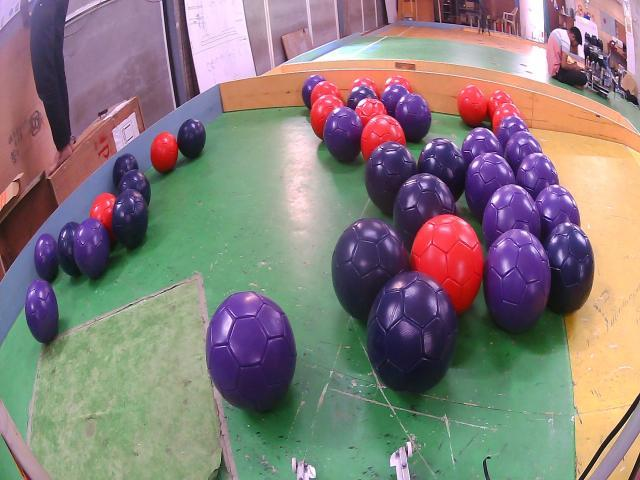jambhalya: (205, 292, 296, 412), (482, 228, 551, 333), (482, 185, 541, 248), (465, 152, 515, 222), (535, 185, 580, 241), (25, 278, 59, 343), (324, 107, 364, 162), (74, 218, 110, 278), (516, 153, 559, 200), (395, 93, 431, 142), (461, 127, 504, 167), (504, 132, 542, 177), (34, 233, 59, 282), (496, 115, 528, 150), (380, 83, 409, 117), (301, 75, 325, 108)
kaalyya: (368, 270, 458, 392), (331, 218, 410, 322), (392, 173, 456, 250), (544, 223, 595, 313), (365, 142, 418, 215), (418, 138, 466, 200), (111, 188, 149, 248), (58, 222, 81, 277), (118, 170, 151, 205), (178, 118, 206, 158), (112, 153, 139, 188), (348, 85, 378, 109)
